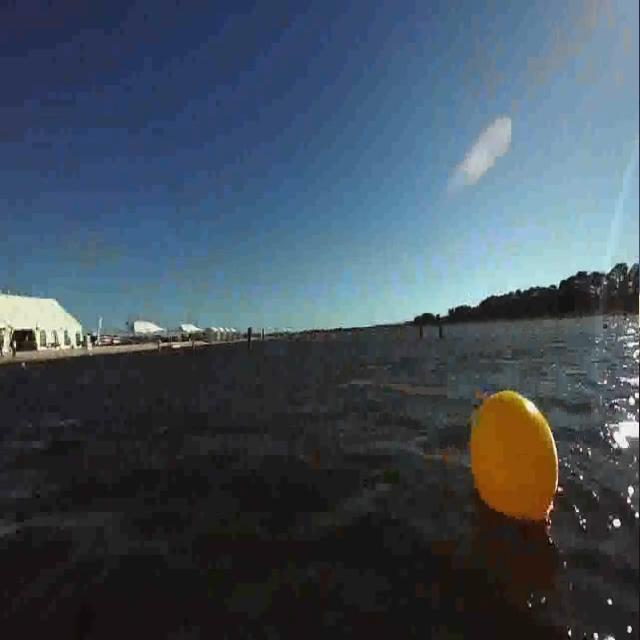yellow-buoy: (463, 388, 561, 528)
